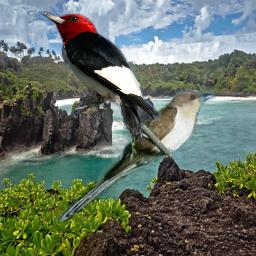Cuckoo: (54, 88, 219, 228)
Woodpecker: (37, 11, 163, 149)
